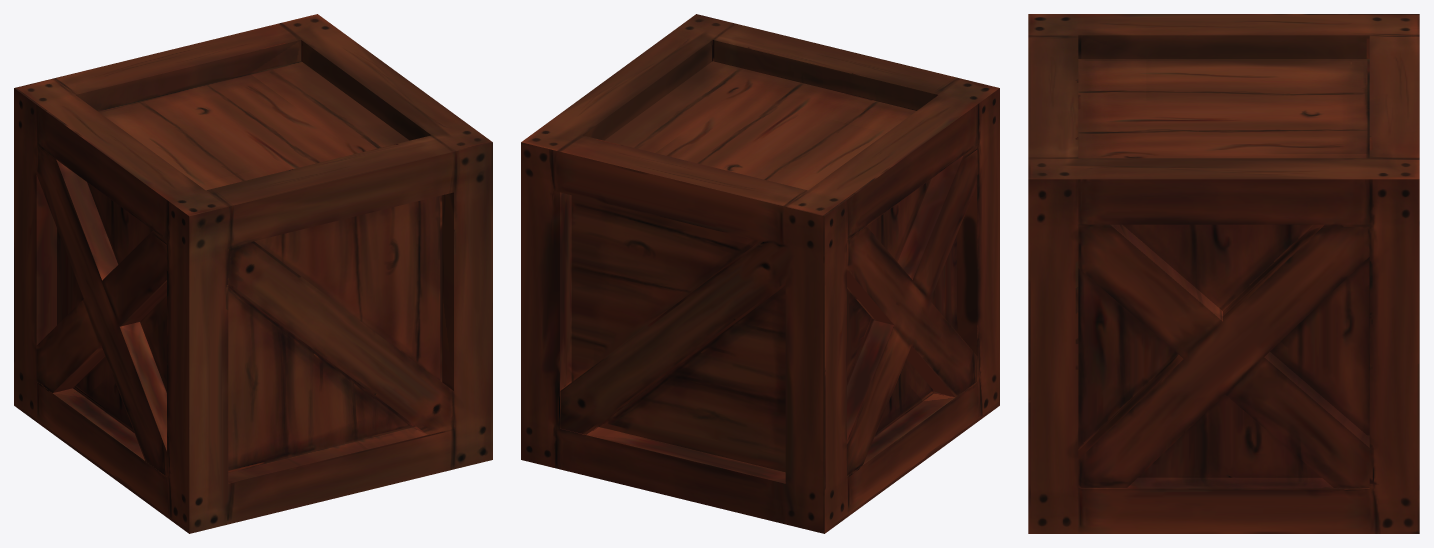
The model's file is Caixa.fbx.
3 views of the same model, side by side, from view 1: azimuth 30°, elevation 25°; view 2: azimuth 150°, elevation 25°; view 3: azimuth 270°, elevation 25° (orthographic). The views are drawn at different scales.
Parts seen in each view (by area): view 1: Caixa; view 2: Caixa; view 3: Caixa.
Boxes of the visible parts, box(x1,y1,x2,y2) form: Caixa: box(14, 14, 492, 533); Caixa: box(521, 14, 999, 533); Caixa: box(1028, 14, 1419, 533).
Bounding box in the file's own units: 90.85 × 90.85 × 90.85.
